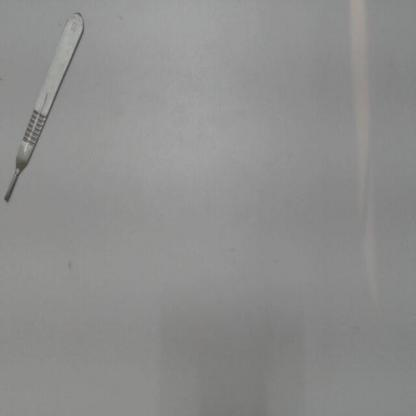No.3 BP Handle: (1, 8, 98, 207)
